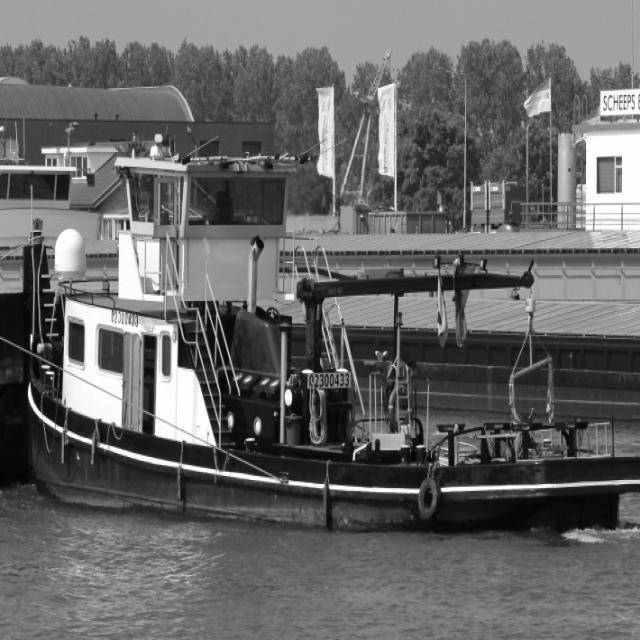tugboat: (21, 127, 640, 553)
